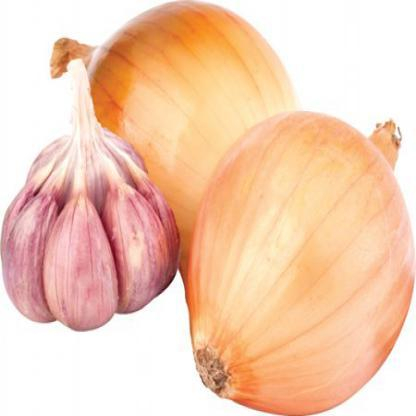garlic: (19, 132, 174, 326)
